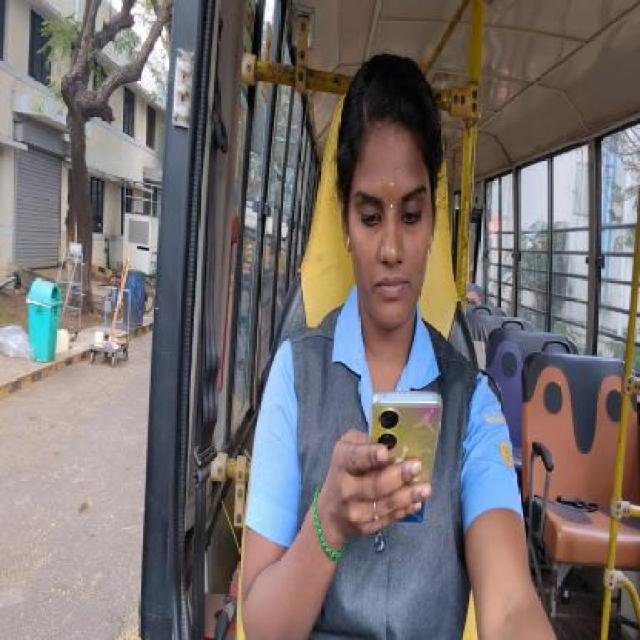Inattentive: (340, 56, 440, 332)
